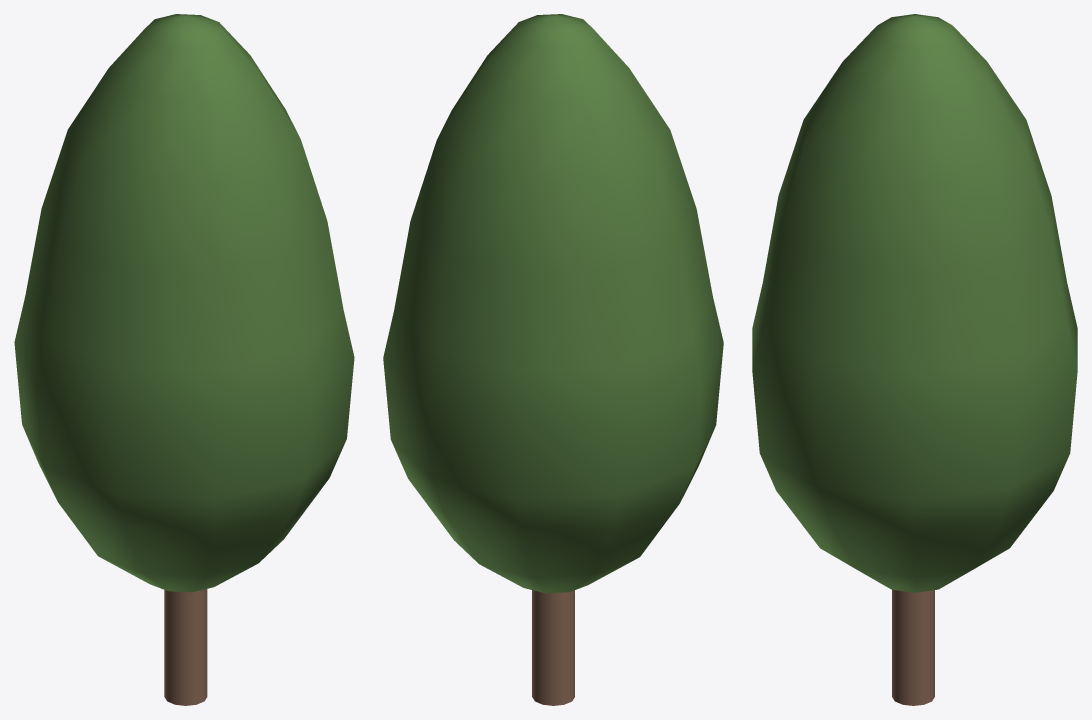
File: Arbol2_Mod.fbx
The picture shows the model from 3 angles, left to right: view 1: azimuth 30°, elevation 25°; view 2: azimuth 150°, elevation 25°; view 3: azimuth 270°, elevation 25°; orthographic projection.
Parts seen in each view (by area): view 1: Arbol1_Mod; view 2: Arbol1_Mod; view 3: Arbol1_Mod.
Part boxes in pixels (left/top/right/bottom): Arbol1_Mod: left=14, top=14, right=354, bottom=705; Arbol1_Mod: left=383, top=14, right=723, bottom=705; Arbol1_Mod: left=752, top=14, right=1077, bottom=705.
Bounding box in the file's own units: 243 × 533 × 231.
